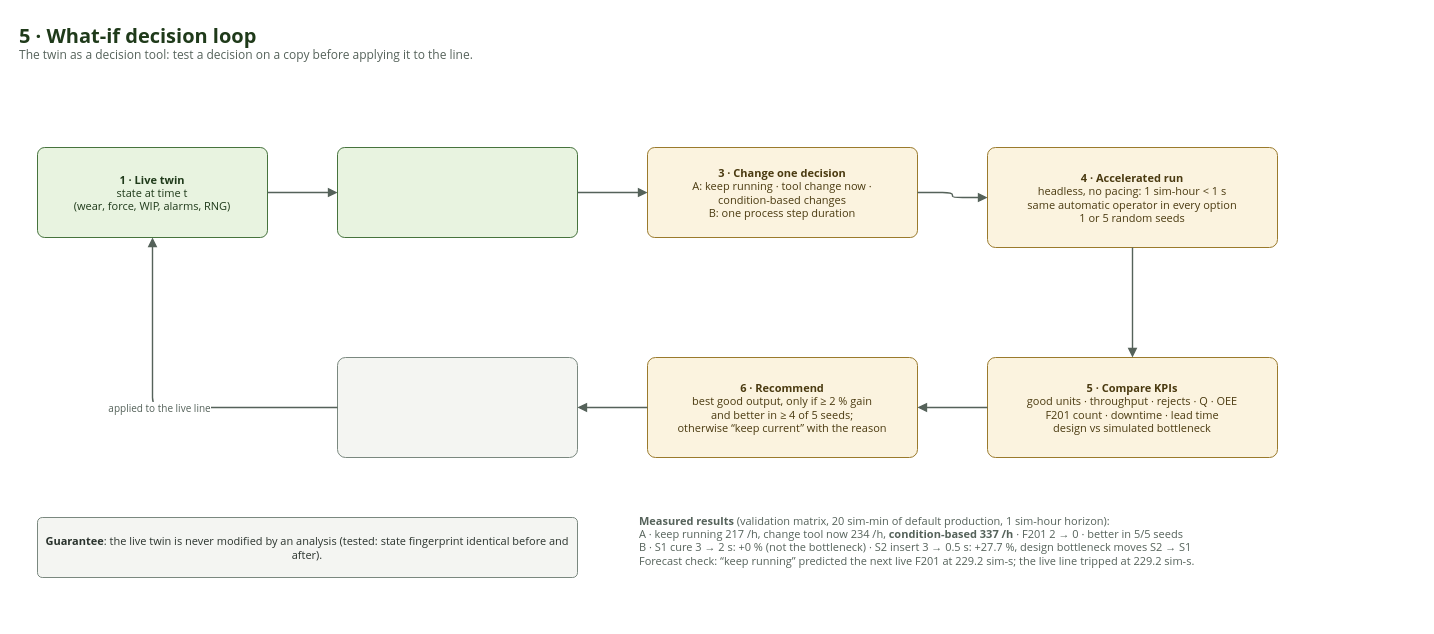
The diagram is 1434 pixels wide and 634 high, and some of its shapes have lost their labels. Here are the shapes that lost their labels. From the top down, the box of each, then its label:
(336, 146, 578, 238): 2 · Virtual copy deepcopy under the engine lock same random-number state
(336, 356, 578, 458): 7 · Operator acts e.g. Schedule tool change command validated and audited
